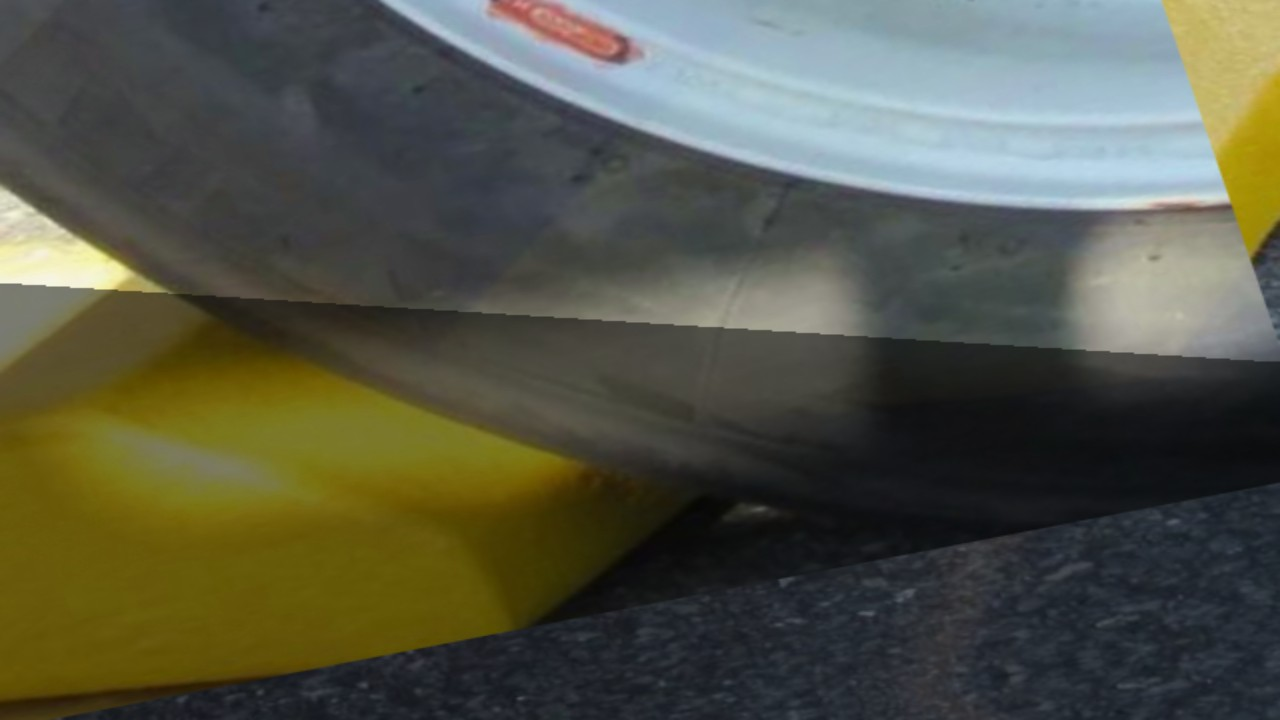chock: (0, 0, 1280, 720), (172, 0, 1280, 510)
